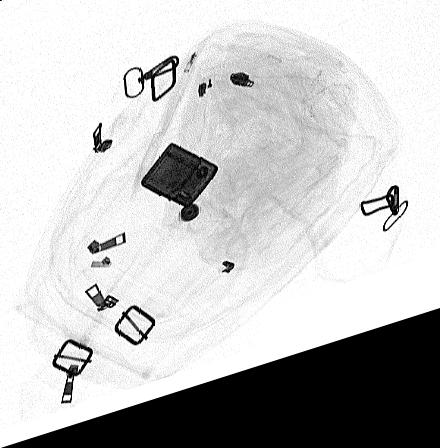Lighter: (140, 154, 219, 220)
